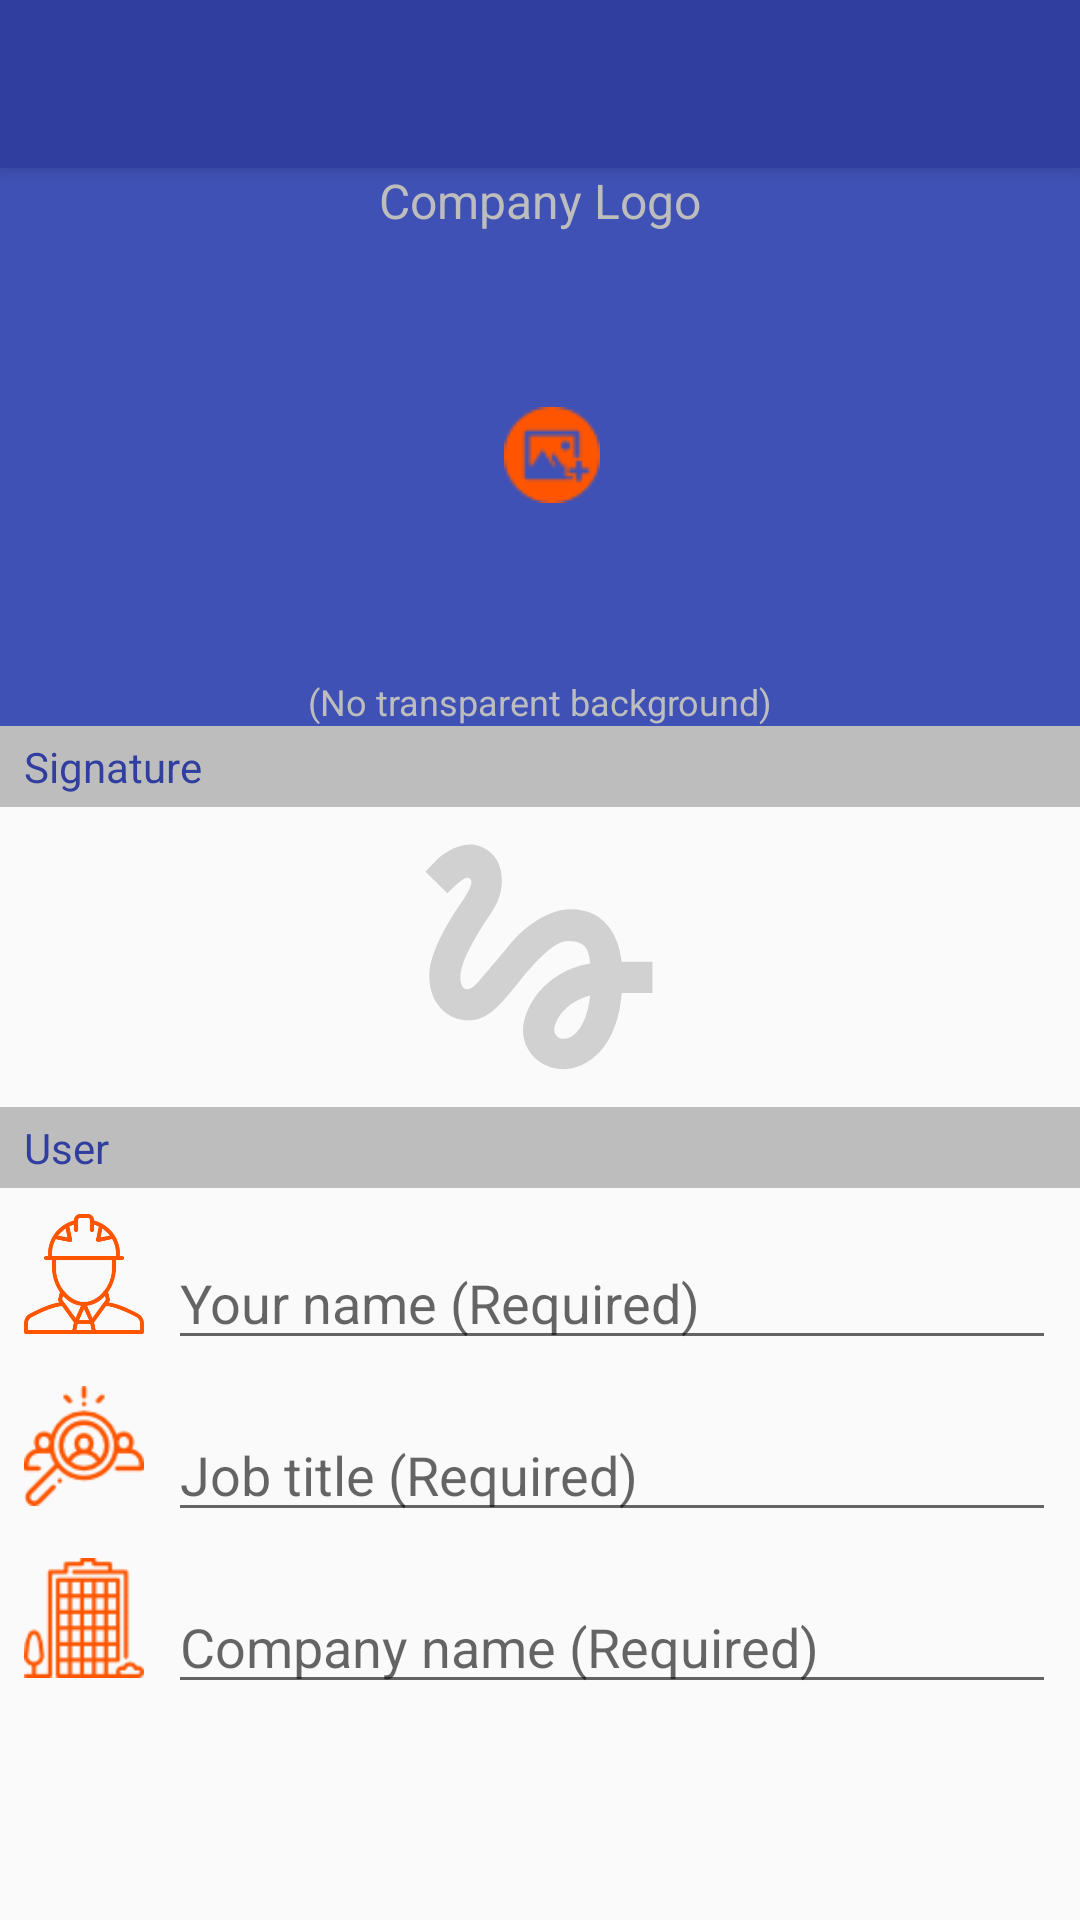

Locate icon controls on the screen. Image size 1080x1920, boxes as (x1, y1, x2, y2).
engineer: (24, 1214, 144, 1334)
officeblock: (24, 1558, 144, 1678)
recruitment: (24, 1386, 144, 1506)
